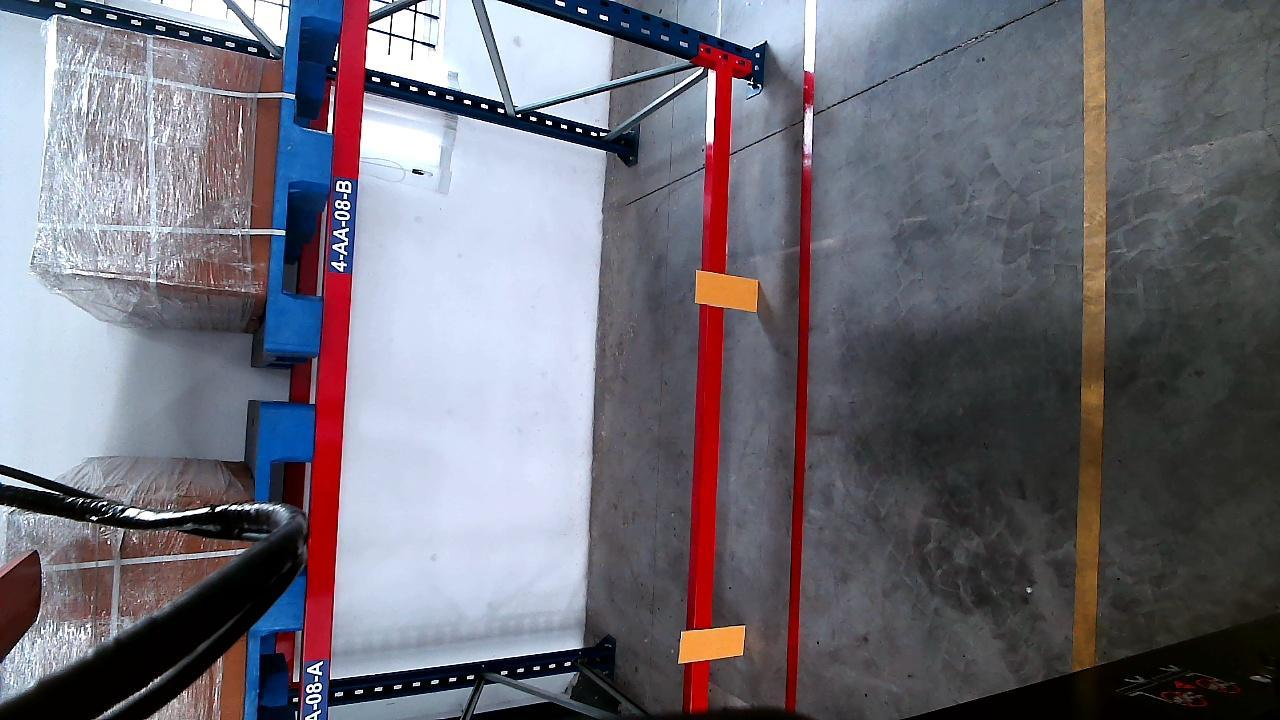red_line: (784, 0, 817, 712)
yellow_line: (1077, 0, 1106, 672)
